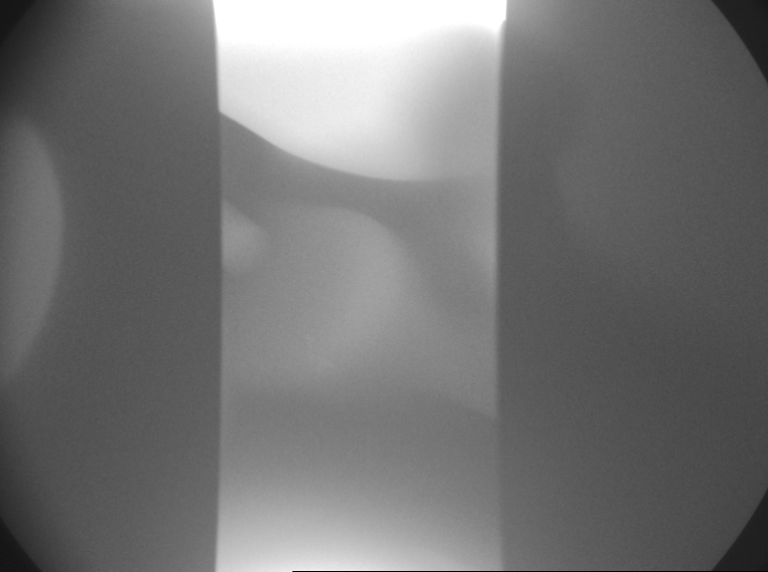defect: (298, 336, 337, 387)
